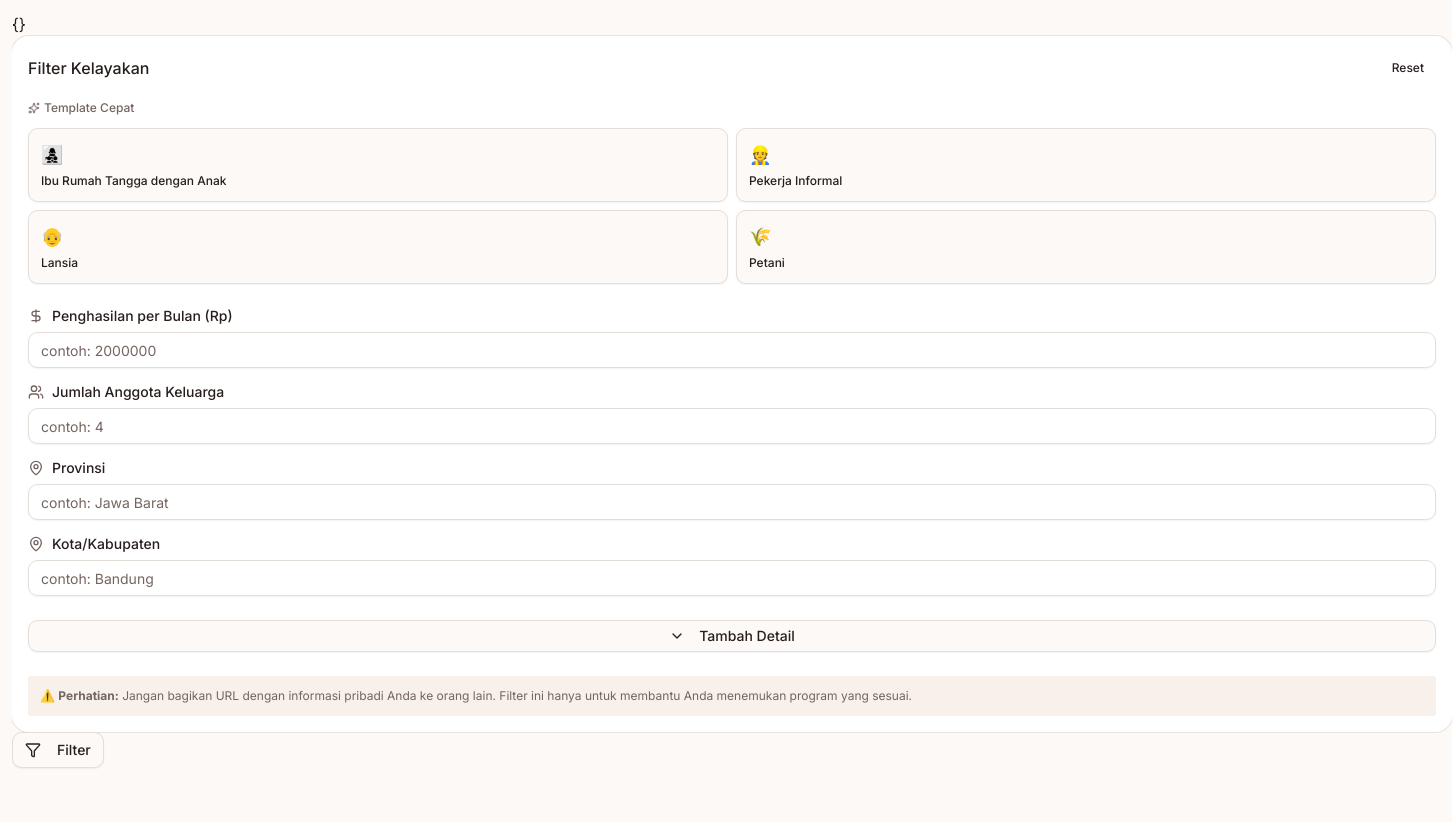
it: Filter State Synchronization › Requirement 1.3: Filter state shared between sidebar and modal via UserContext › changes in sidebar filter update UserContext
// Update income in sidebar
Type "2000000" into the number field labelled "Penghasilan per Bulan (Rp)". click: (732, 350)
box: x1=28 y1=332 x2=1436 y2=368
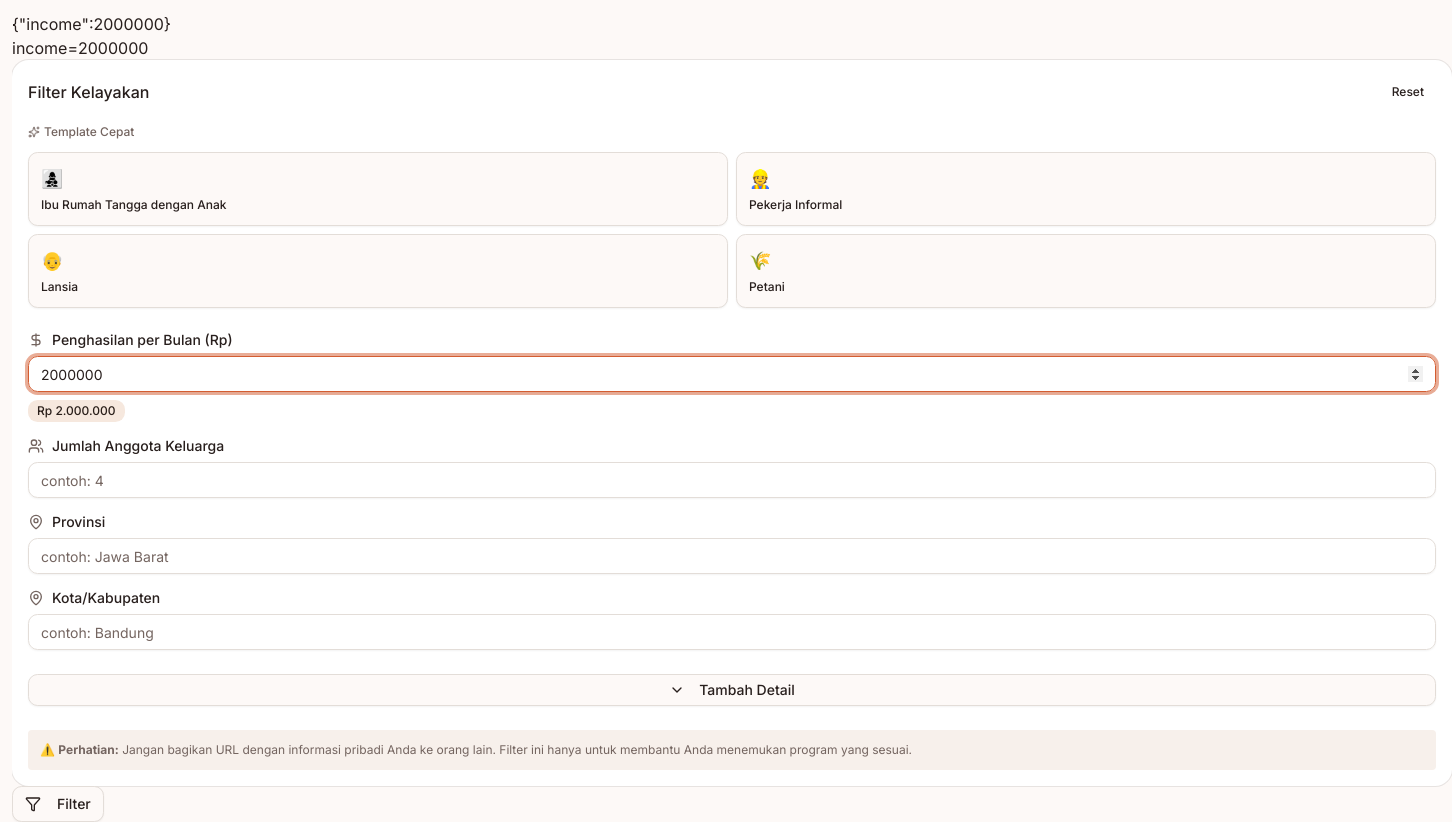
expect the text with test id "current-criteria" shows "2000000": met, box x1=12 y1=14 x2=171 y2=34
